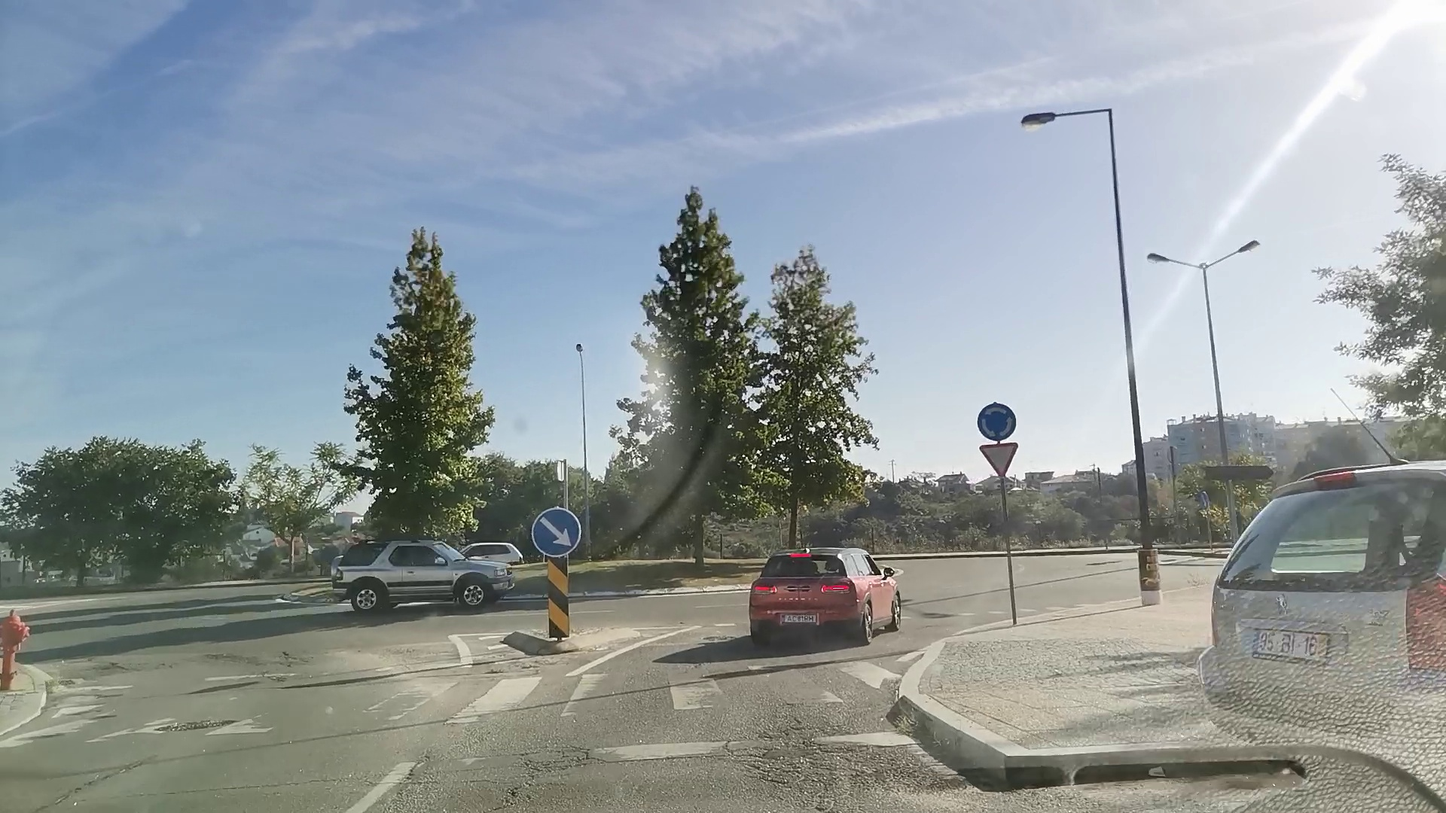Stairs: (4, 656, 940, 744)
